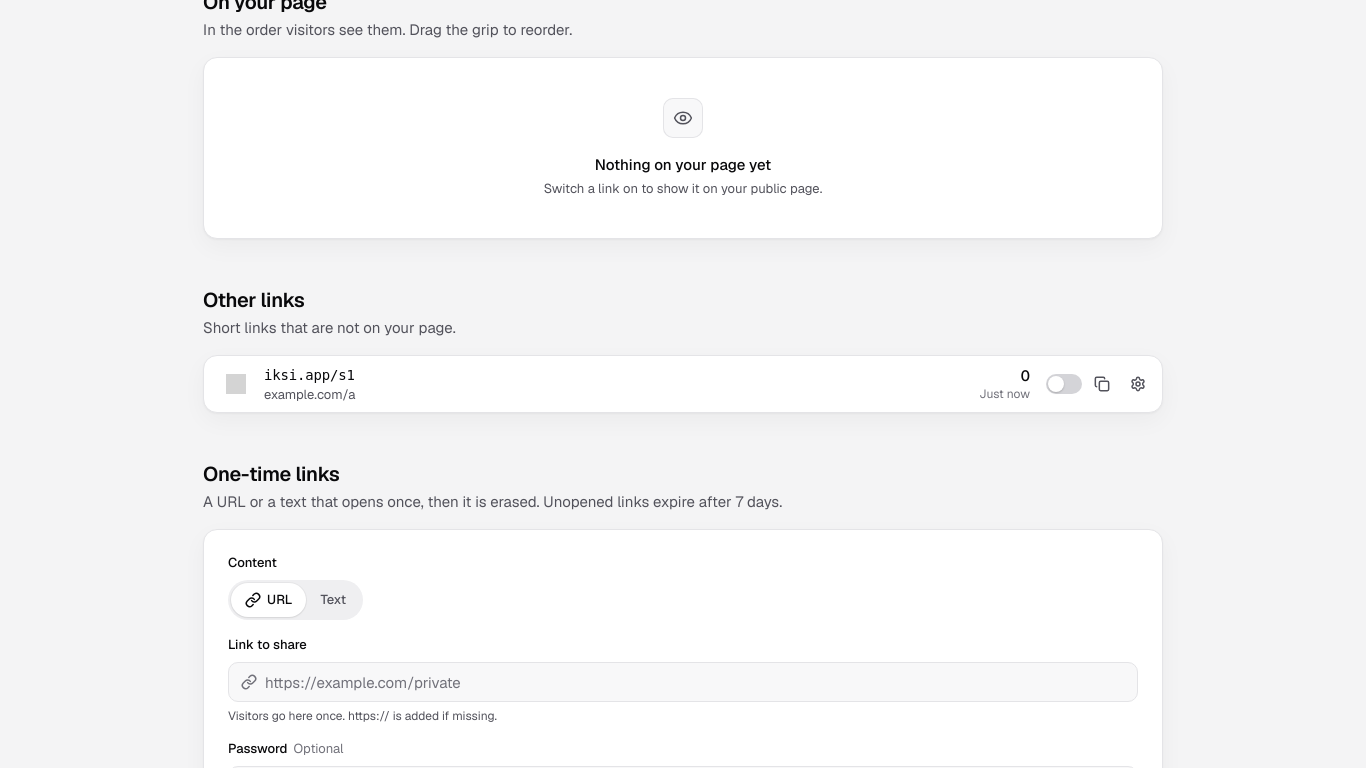
Test: links page settings sheet › opens a modal sheet on gear click and moves focus into it
(page scrolled)
Expected: the dialog "Link settings" is not shown
Click the button named "Settings for iksi.app/s1" at (1138, 384), box [1122,368,1154,400]
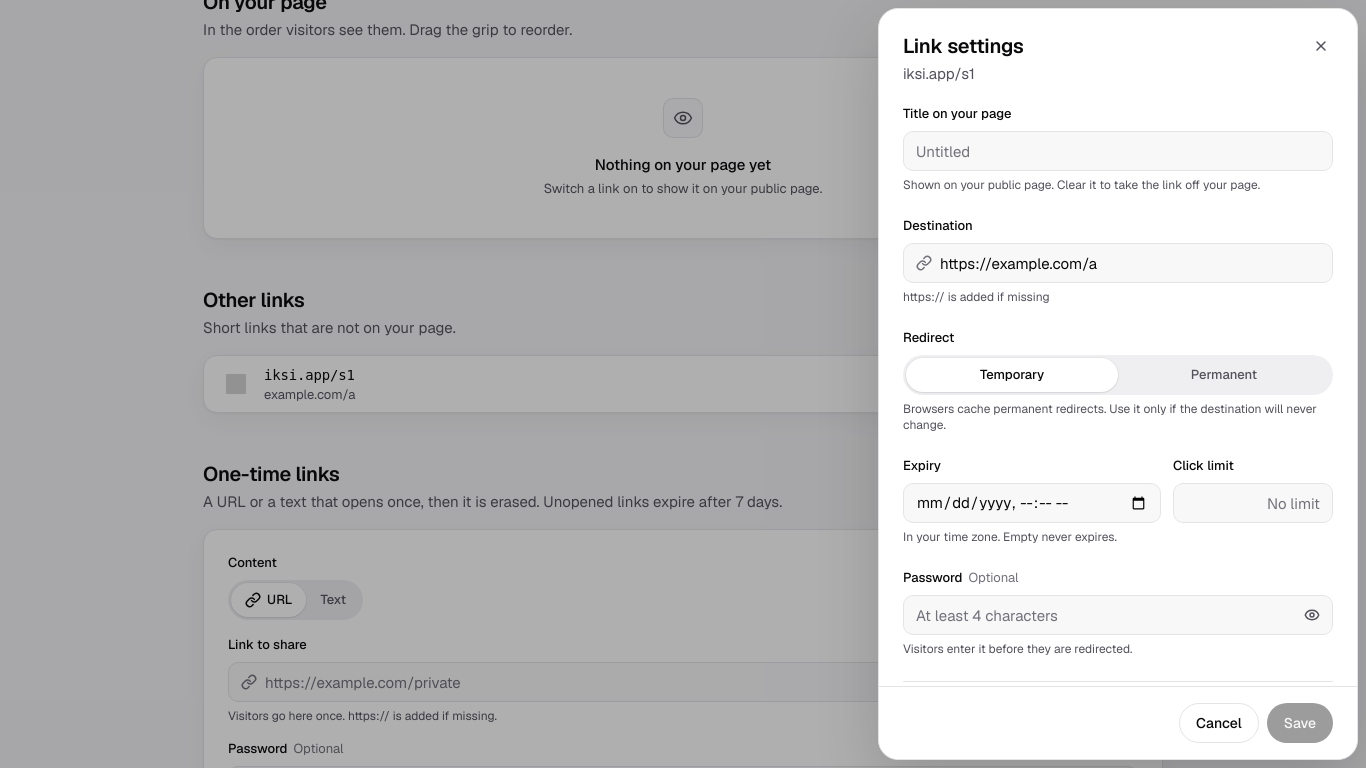
Expected: the dialog "Link settings" is shown, [878,8,1358,760]
Expected: the text "iksi.app/s1" is shown, [903,64,975,83]
Expected: the field labelled "Title on your page" is empty, [916,132,1320,170]
